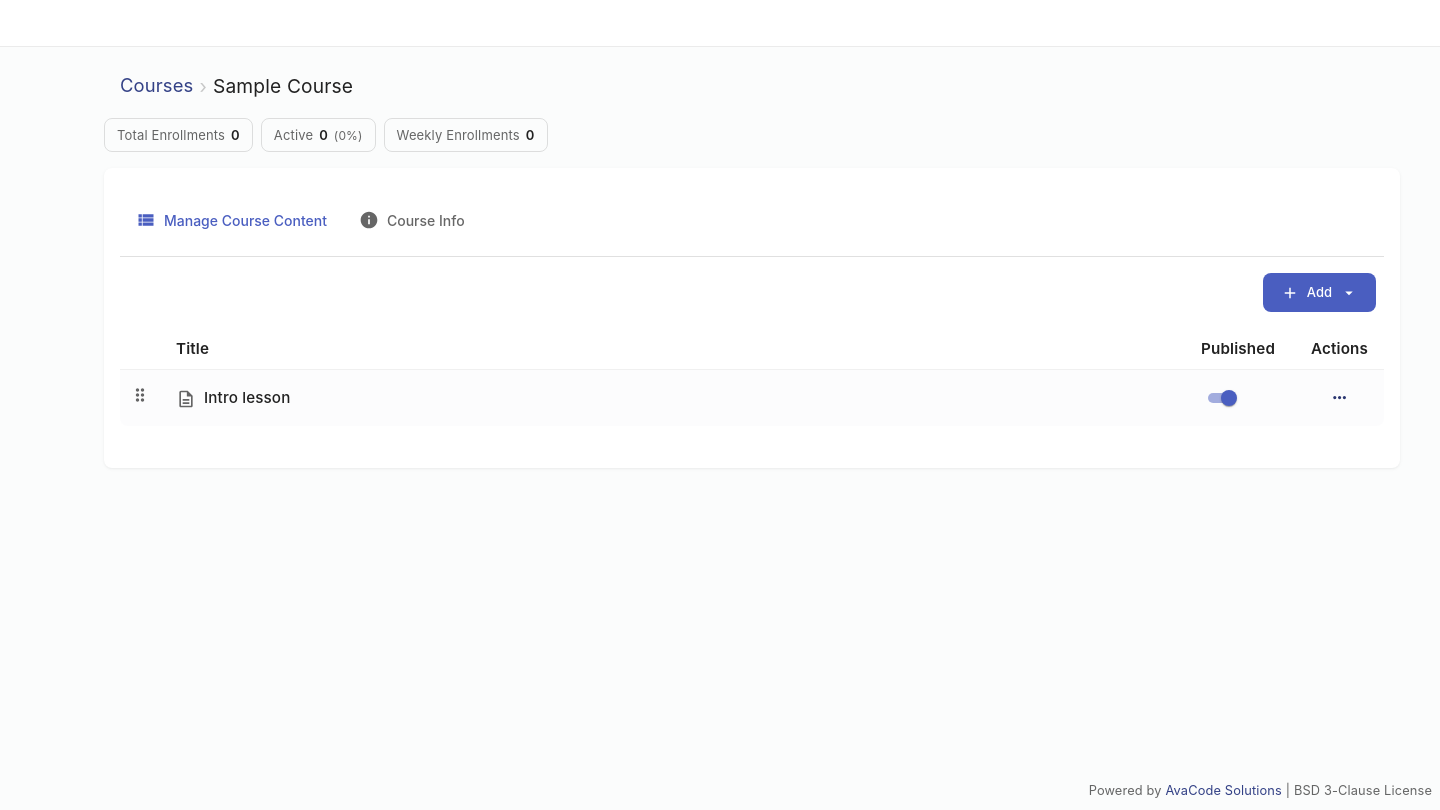
Scenario: Course › hides the Track entry from users who cannot edit branching
Click the button "Add": (1319, 293) [1263,273,1376,312]
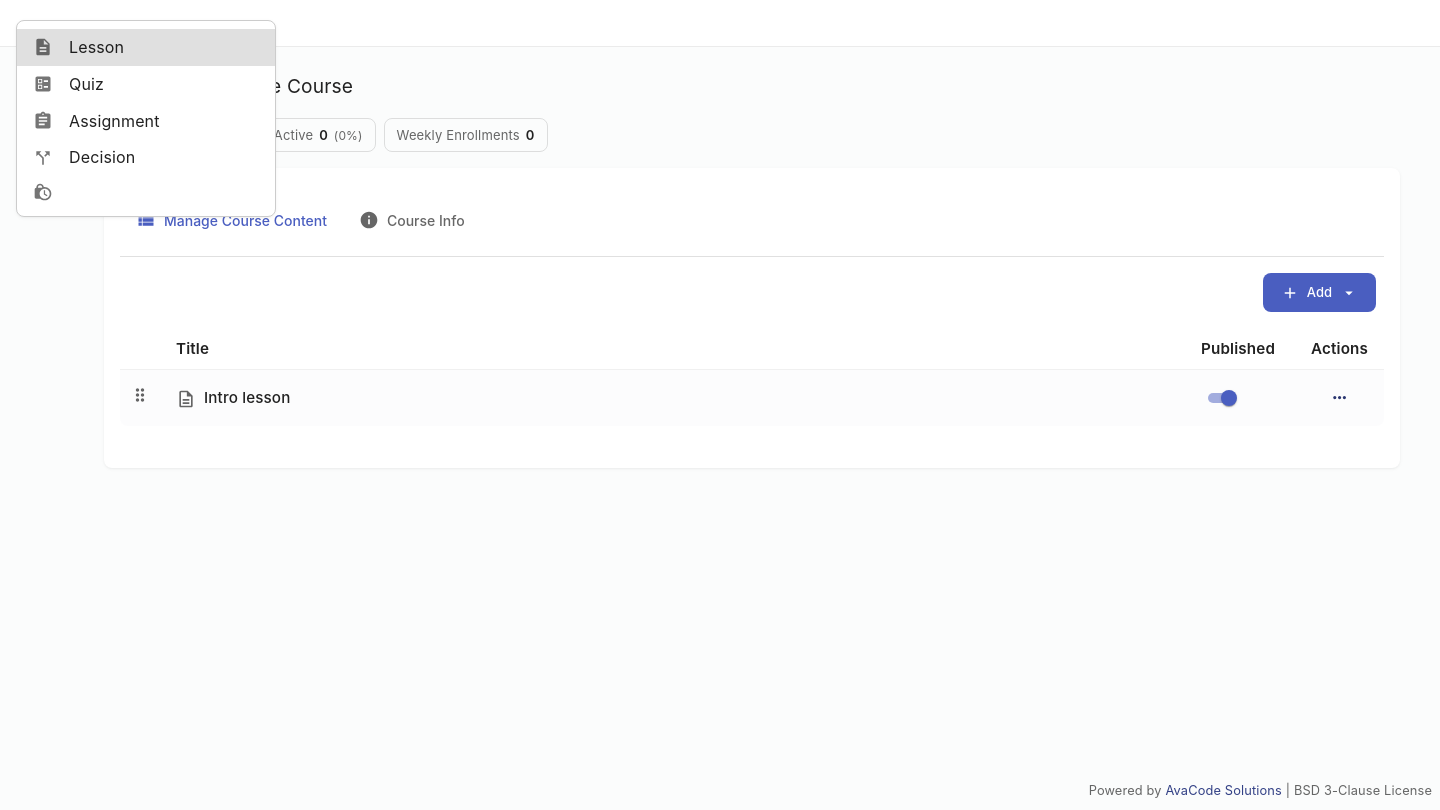
Result: the menu item "Lesson" is shown at [17,29,275,66]
